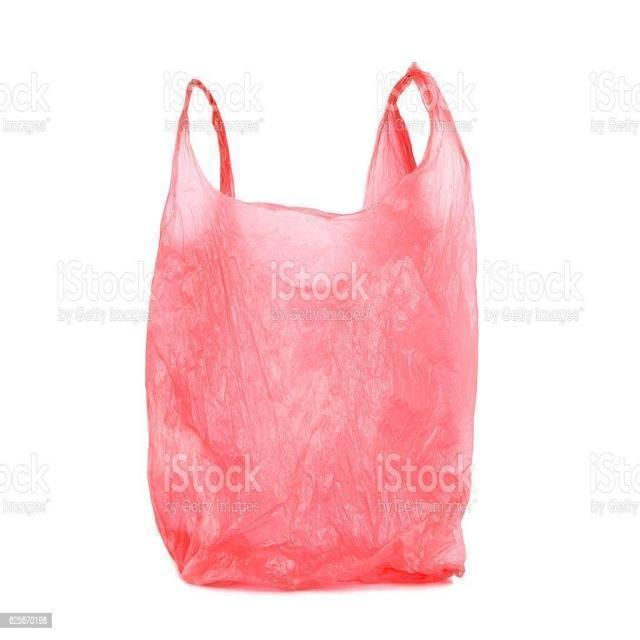Plastic_Bag: (150, 62, 480, 592)
